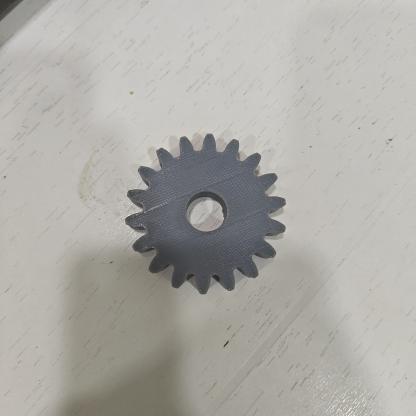gear: (104, 125, 304, 304)
